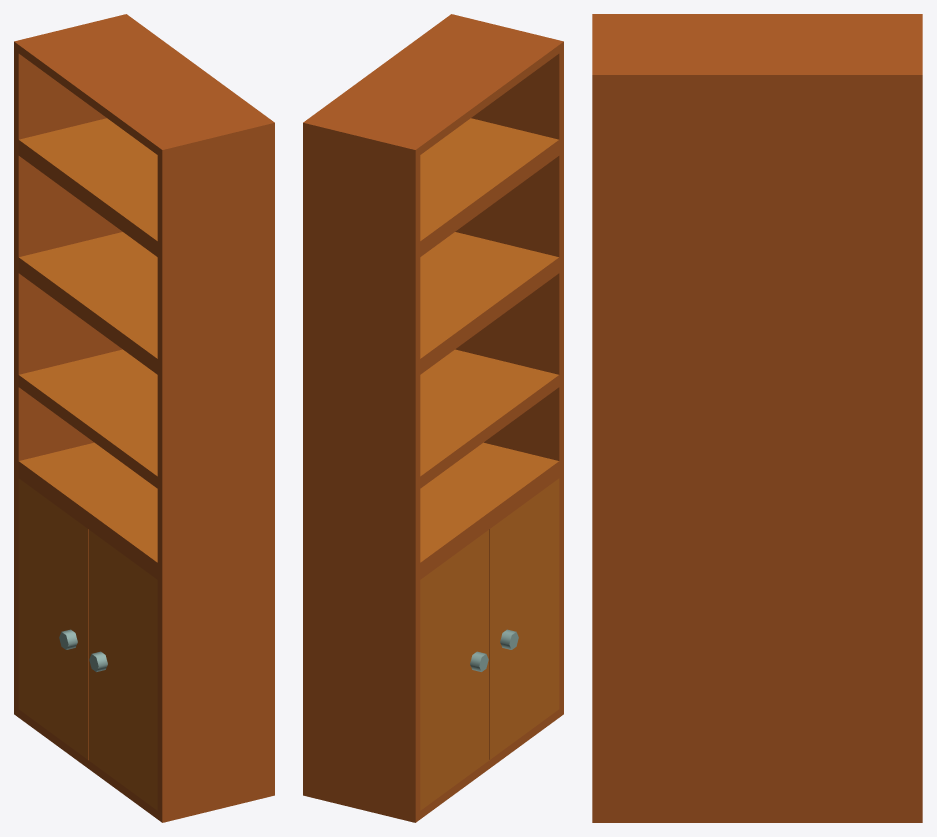
The model's file is estanteria.FBX.
3 views of the same model, side by side, from view 1: azimuth 30°, elevation 25°; view 2: azimuth 150°, elevation 25°; view 3: azimuth 270°, elevation 25° (orthographic). The views are drawn at different scales.
Visible parts, largest first — view 1: Box001; view 2: Box001; view 3: Box001.
Boxes of the visible parts, x1=… form: Box001: x1=14, y1=14, x2=274, y2=822; Box001: x1=303, y1=14, x2=563, y2=822; Box001: x1=592, y1=14, x2=922, y2=822.
Bounding box in the file's own units: 14.92 × 78.74 × 31.5.
